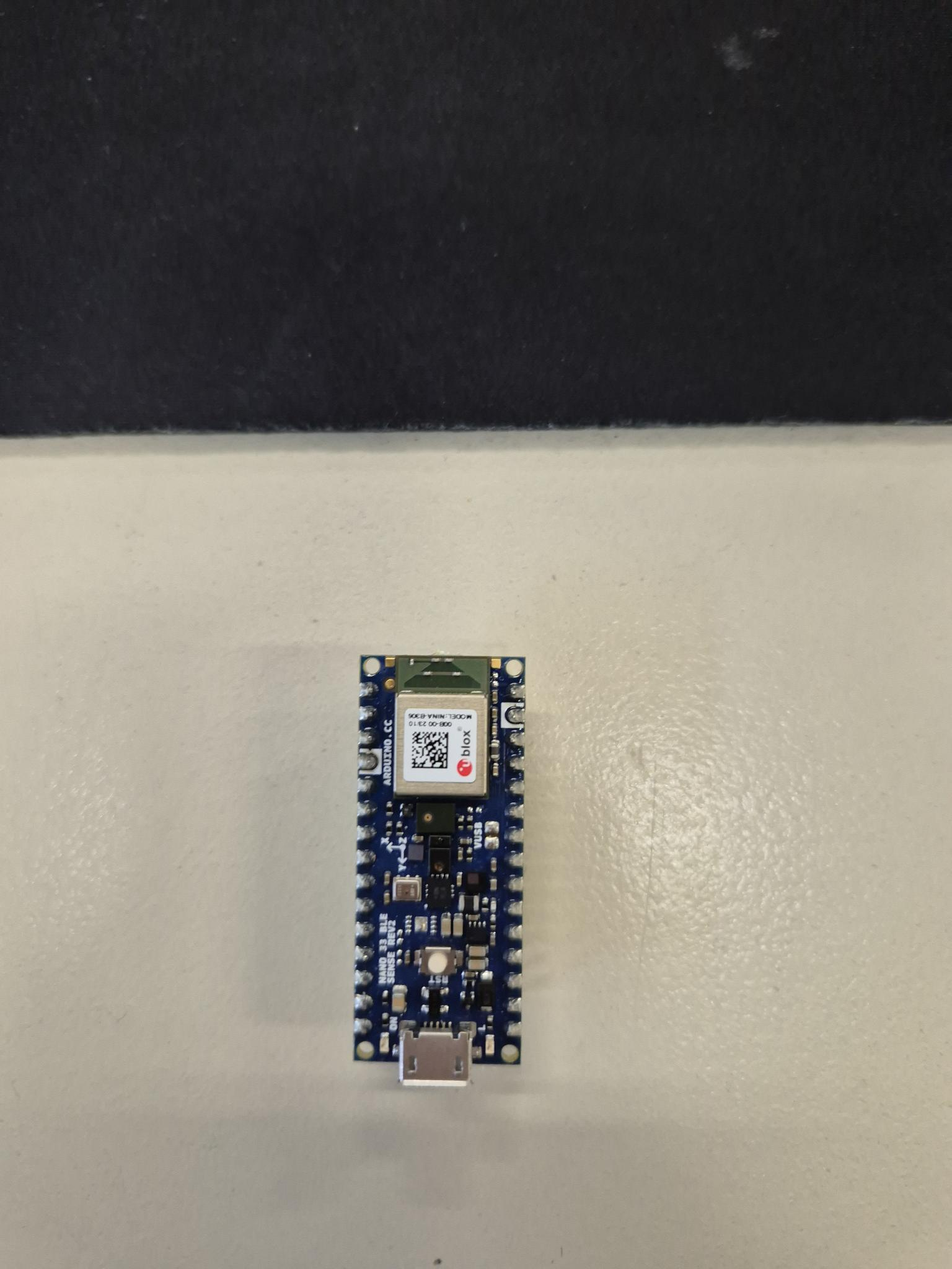arduino-nano-ble-sense: (354, 655, 525, 1086)
